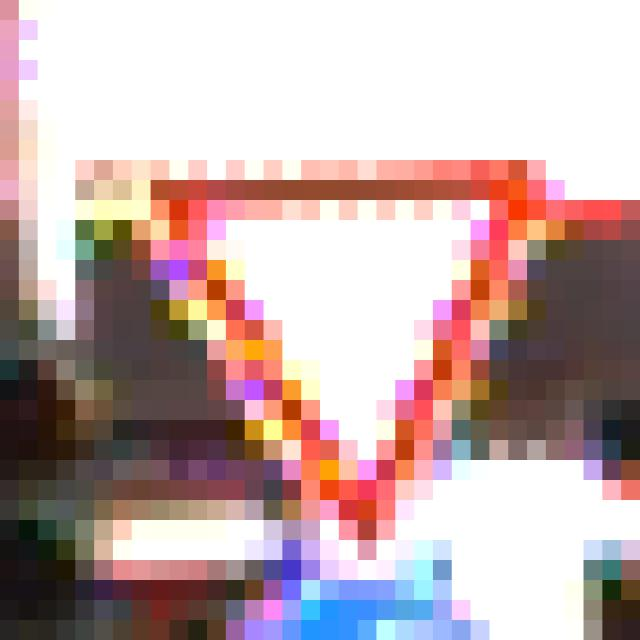Give Way: (95, 121, 547, 541)
